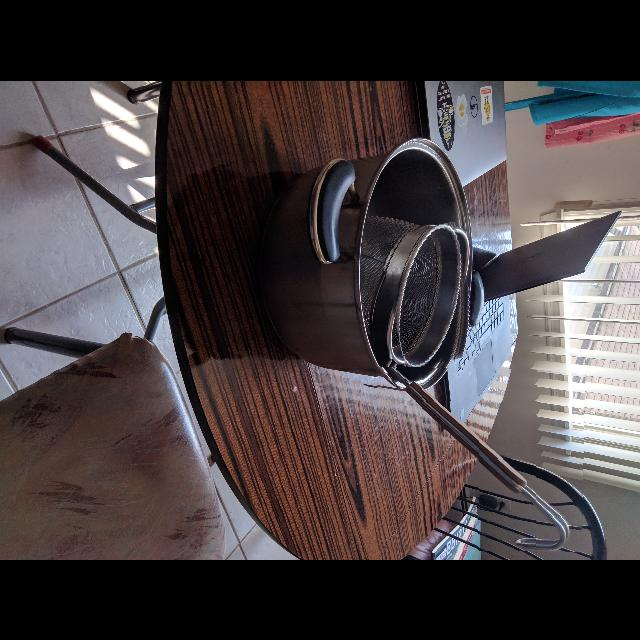Handle: (377, 366, 582, 550)
Strainer: (393, 227, 464, 364)
